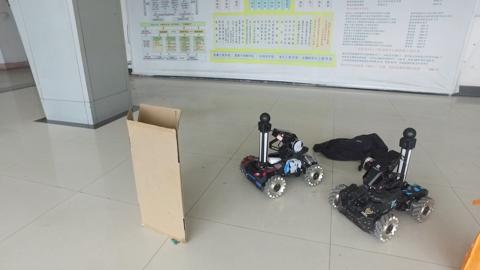box: (126, 99, 191, 245)
chariot: (333, 127, 435, 240), (243, 111, 328, 200)
